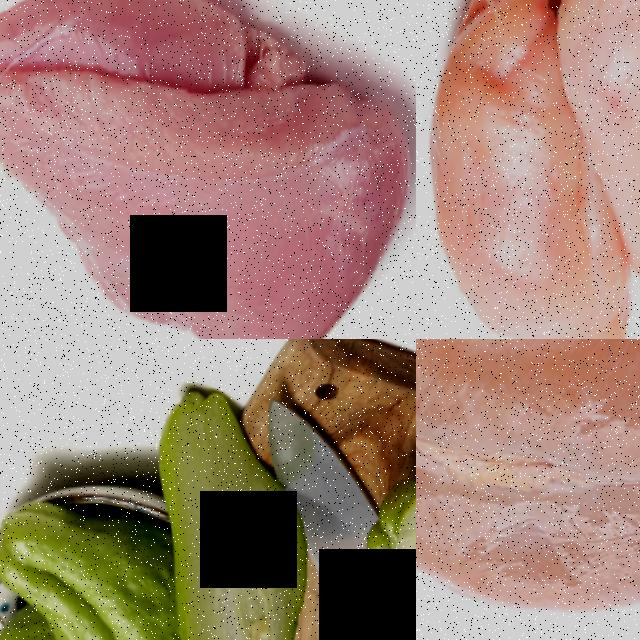chayote: (164, 401, 343, 640), (43, 478, 200, 640), (356, 416, 416, 640)
chicken breast: (0, 0, 416, 339), (418, 0, 640, 339), (416, 339, 640, 640)
